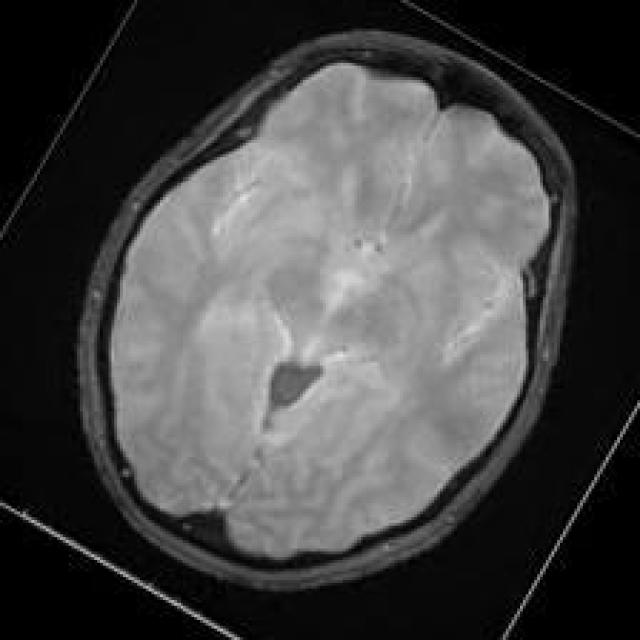no_tumor: (70, 27, 582, 604)
